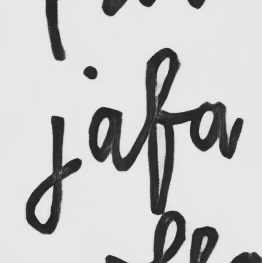a: (84, 104, 128, 170), (186, 98, 232, 158)
f: (139, 44, 182, 219)
j: (23, 112, 70, 237)
